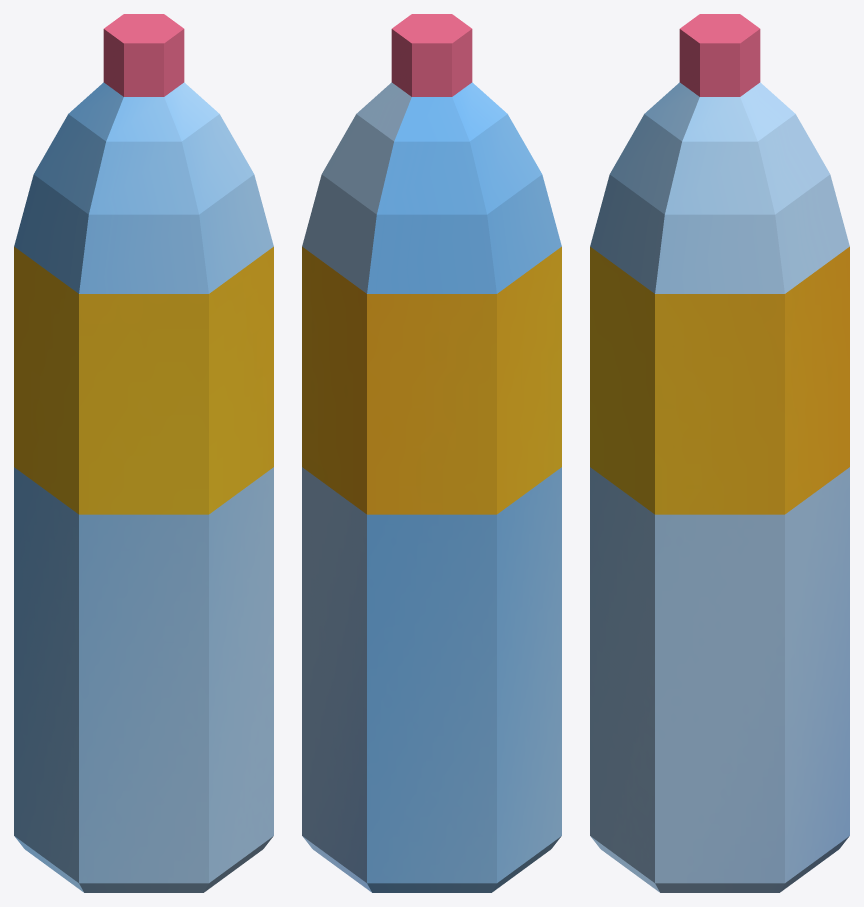
The model's file is bottiglia.fbx.
The picture shows the model from 3 angles, left to right: view 1: azimuth 30°, elevation 25°; view 2: azimuth 150°, elevation 25°; view 3: azimuth 270°, elevation 25°; orthographic projection.
Parts seen in each view (by area): view 1: bottiglia; view 2: bottiglia; view 3: bottiglia.
Part boxes in pixels (x1,y1,x2,y2): bottiglia: (14, 14, 273, 892); bottiglia: (302, 14, 561, 892); bottiglia: (590, 14, 849, 892).
Bounding box in the file's own units: 0.0591 × 0.2379 × 0.0683.
